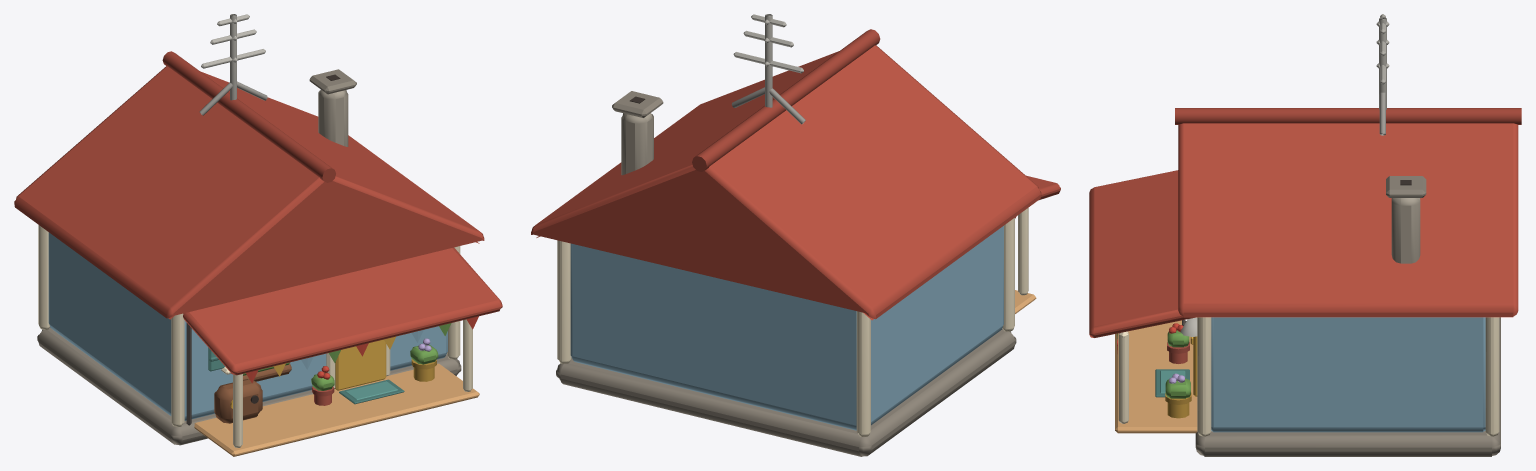
Rendered from cabin_pip.glb.
3 views of the same model, side by side, from view 1: azimuth 30°, elevation 25°; view 2: azimuth 150°, elevation 25°; view 3: azimuth 270°, elevation 25° (orthographic). The views are drawn at different scales.
Parts seen in each view (by area): view 1: body; view 2: body; view 3: body.
Boxes of the visible parts, <box> form: body: <box>14,14,502,456</box>; body: <box>531,14,1060,456</box>; body: <box>1089,14,1521,456</box>.
Size of the model in its own units: 6.9 by 6.98 by 7.51.
